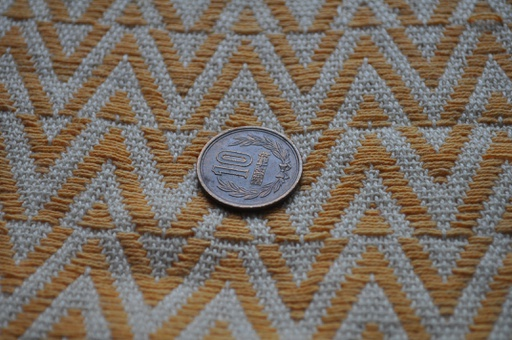10yen: (197, 126, 302, 211)
